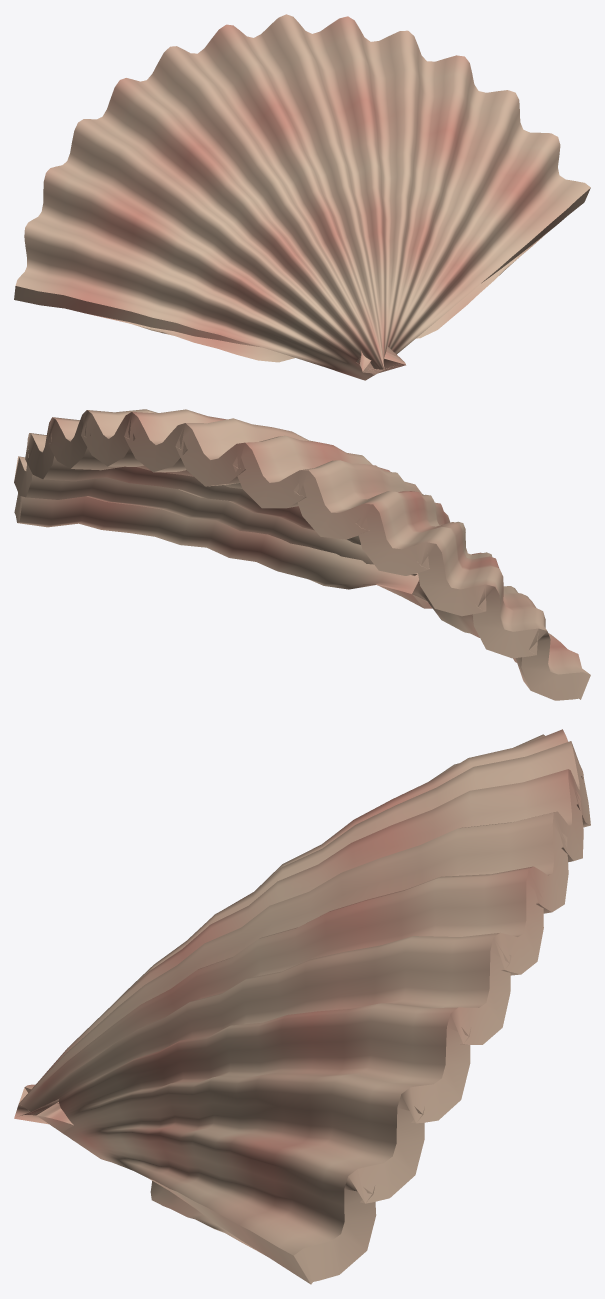
Rendered from prop-shell-scallop.glb.
The picture shows the model from 3 angles, top to bottom: view 1: azimuth 30°, elevation 25°; view 2: azimuth 150°, elevation 25°; view 3: azimuth 270°, elevation 25°; orthographic projection. The views are drawn at different scales.
Visible parts, largest first — view 1: body; view 2: body; view 3: body.
Part boxes in pixels (left/top/right/bottom): body: left=14, top=14, right=590, bottom=380; body: left=14, top=409, right=590, bottom=700; body: left=14, top=729, right=590, bottom=1284.
Bounding box in the file's own units: 0.0393 × 0.0175 × 0.0231.
